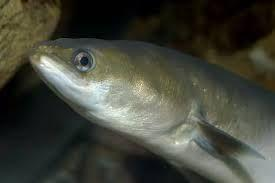Freshwater Eel: (28, 27, 275, 183)
